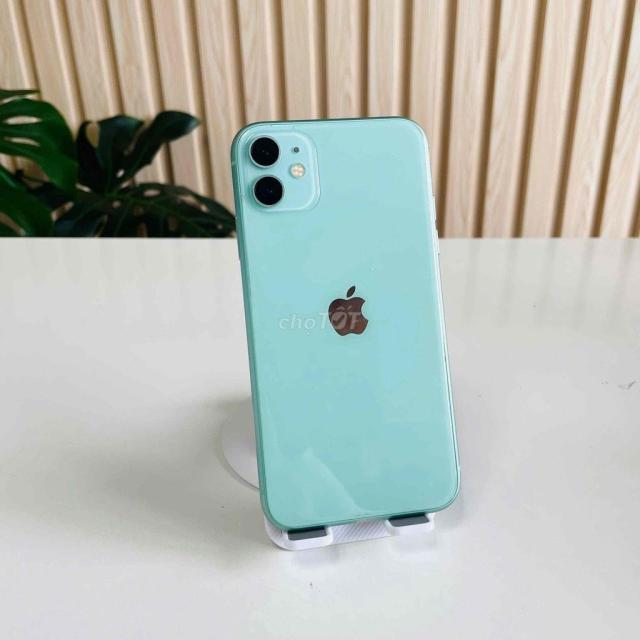gen_11: (225, 111, 466, 529)
scratch: (264, 120, 296, 132), (409, 124, 427, 143)
